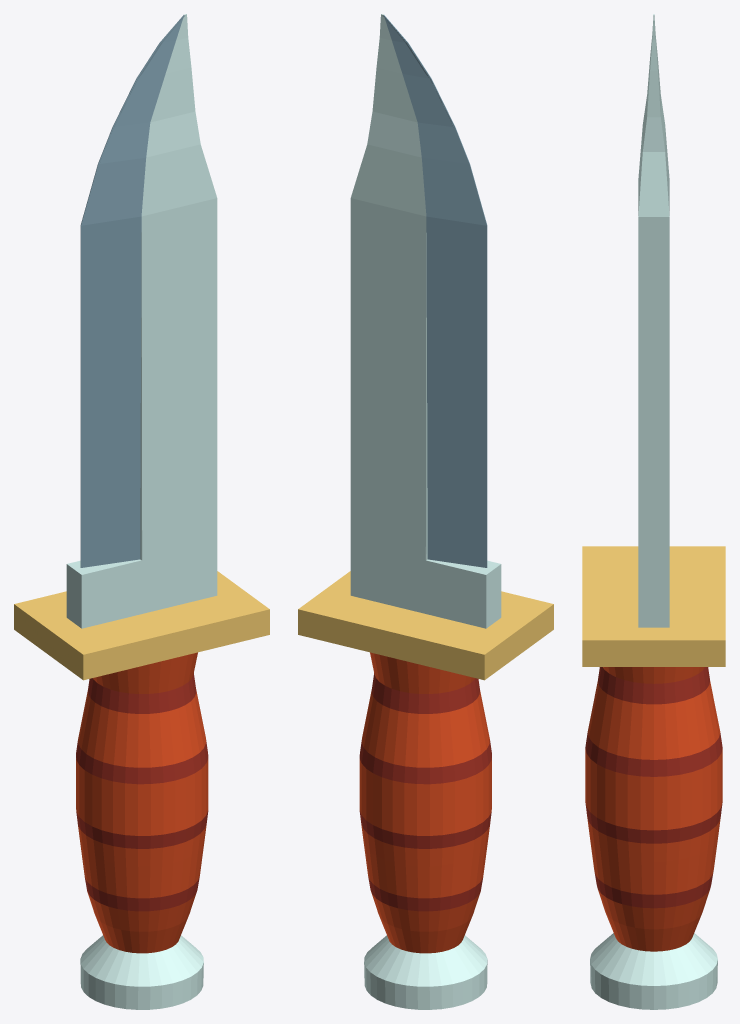
Rendered from Bcak (1).fbx.
3 views of the same model, side by side, from view 1: azimuth 30°, elevation 25°; view 2: azimuth 150°, elevation 25°; view 3: azimuth 270°, elevation 25° (orthographic). The views are drawn at different scales.
Parts seen in each view (by area): view 1: Cube; view 2: Cube; view 3: Cube.
Part boxes in pixels (bbox=[...]): Cube: bbox=[14, 14, 269, 1009]; Cube: bbox=[298, 14, 553, 1009]; Cube: bbox=[582, 14, 725, 1009].
Bounding box in the file's own units: 223 × 1096 × 144.
